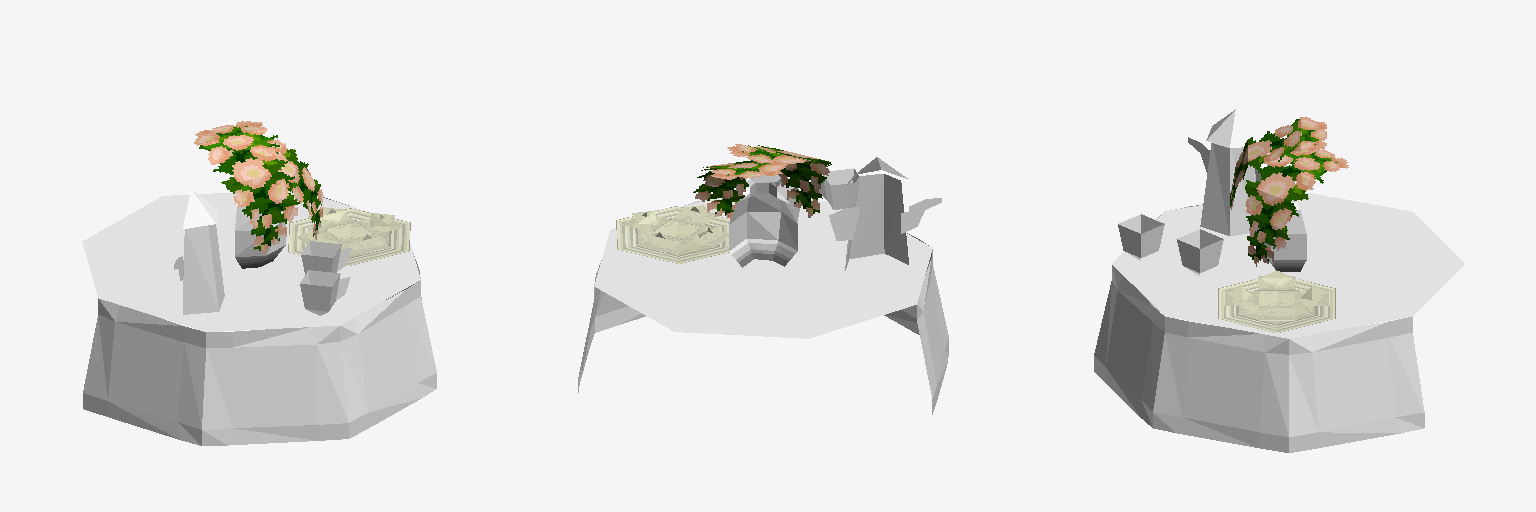
3 views of the same model, side by side, from view 1: azimuth 30°, elevation 25°; view 2: azimuth 150°, elevation 25°; view 3: azimuth 270°, elevation 25° (orthographic).
Bounding box in the file's own units: 0.066 × 0.043 × 0.063.
4 materials, 3 textured.